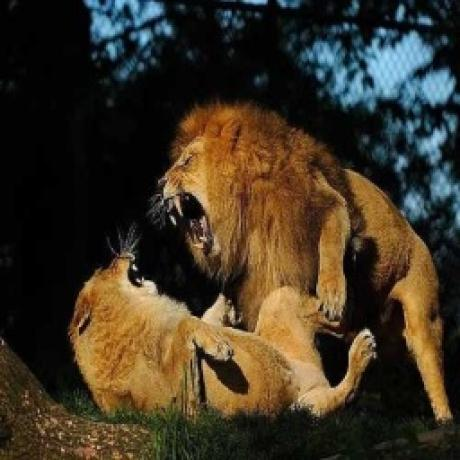Lion: (156, 100, 454, 426), (69, 248, 380, 420)
